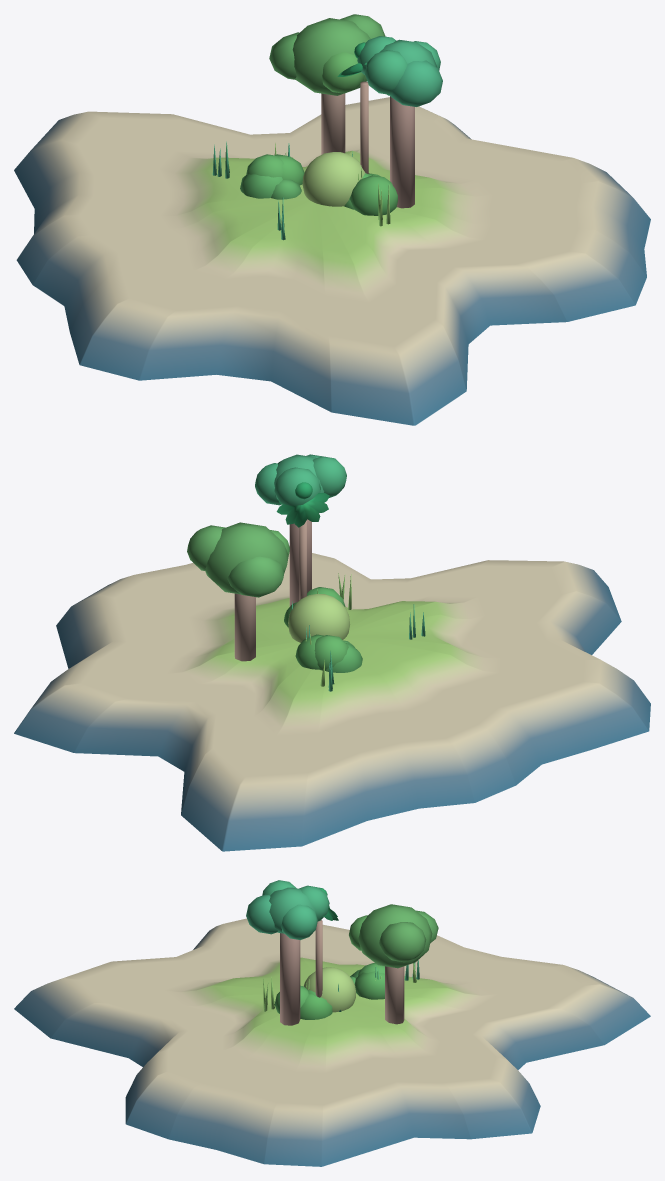
File: terrain_island_09.glb
3 renders of one model, top to bottom at view 1: azimuth 30°, elevation 25°; view 2: azimuth 150°, elevation 25°; view 3: azimuth 270°, elevation 25°, orthographic. The views are drawn at different scales.
Visible parts, largest first — view 1: island_terrain, veg_tree0_tree_crown_c, hill0, veg_tree1_tree_trunk, veg_tree1_tree_crown_1, veg_shrub0_ball1, veg_tree0_tree_trunk, veg_tree1_tree_crown_2, veg_tree0_tree_crown_1, veg_tree0_tree_crown_2, veg_tree2_palm_trunk, veg_shrub1_ball2 (+2 smaller); view 2: island_terrain, veg_tree0_tree_crown_c, hill0, veg_tree0_tree_crown_2, veg_tree0_tree_trunk, veg_tree1_tree_trunk, veg_tree1_tree_crown_3, veg_tree0_tree_crown_0, veg_tree1_tree_crown_2, veg_shrub1_ball3, veg_tree1_tree_crown_0, veg_tree1_tree_crown_c (+2 smaller); view 3: island_terrain, veg_tree0_tree_crown_c, veg_tree1_tree_trunk, veg_tree0_tree_crown_0, hill0, veg_tree0_tree_trunk, veg_tree1_tree_crown_0, veg_tree1_tree_crown_c, veg_tree1_tree_crown_1, veg_shrub1_ball0, veg_shrub0_ball0, veg_tree2_palm_trunk (+1 smaller).
Part boxes in pixels (x1=…): island_terrain: x1=14, y1=97, x2=650, y2=425; veg_tree0_tree_crown_c: x1=292, y1=18, x2=370, y2=95; hill0: x1=302, y1=152, x2=365, y2=206; veg_tree1_tree_trunk: x1=390, y1=96, x2=414, y2=208; veg_tree1_tree_crown_1: x1=390, y1=60, x2=442, y2=106; veg_shrub0_ball1: x1=349, y1=175, x2=397, y2=215; veg_tree0_tree_trunk: x1=321, y1=93, x2=345, y2=154; veg_tree1_tree_crown_2: x1=365, y1=50, x2=407, y2=94; veg_tree0_tree_crown_1: x1=322, y1=52, x2=364, y2=93; veg_tree0_tree_crown_2: x1=269, y1=32, x2=299, y2=79; veg_tree2_palm_trunk: x1=360, y1=81, x2=368, y2=173; veg_shrub1_ball2: x1=240, y1=174, x2=282, y2=198; island_terrain: x1=14, y1=552, x2=650, y2=851; veg_tree0_tree_crown_c: x1=205, y1=522, x2=288, y2=594; hill0: x1=288, y1=594, x2=350, y2=642; veg_tree0_tree_crown_2: x1=227, y1=556, x2=284, y2=597; veg_tree0_tree_trunk: x1=234, y1=593, x2=255, y2=661; veg_tree1_tree_trunk: x1=289, y1=519, x2=311, y2=606; veg_tree1_tree_crown_3: x1=274, y1=467, x2=320, y2=505; veg_tree0_tree_crown_0: x1=187, y1=525, x2=225, y2=570; veg_tree1_tree_crown_2: x1=312, y1=456, x2=346, y2=497; veg_shrub1_ball3: x1=314, y1=635, x2=348, y2=670; veg_tree1_tree_crown_0: x1=255, y1=463, x2=281, y2=505; veg_tree1_tree_crown_c: x1=274, y1=454, x2=324, y2=498; island_terrain: x1=14, y1=918, x2=650, y2=1166; veg_tree0_tree_crown_c: x1=358, y1=904, x2=432, y2=968; veg_tree1_tree_trunk: x1=280, y1=933, x2=300, y2=1025; veg_tree0_tree_crown_0: x1=379, y1=922, x2=426, y2=962; hill0: x1=304, y1=967, x2=355, y2=1012; veg_tree0_tree_trunk: x1=385, y1=966, x2=404, y2=1024; veg_tree1_tree_crown_0: x1=281, y1=904, x2=317, y2=940; veg_tree1_tree_crown_c: x1=269, y1=887, x2=315, y2=933; veg_tree1_tree_crown_1: x1=246, y1=894, x2=277, y2=934; veg_shrub1_ball0: x1=354, y1=971, x2=384, y2=999; veg_shrub0_ball0: x1=300, y1=994, x2=332, y2=1019; veg_tree2_palm_trunk: x1=315, y1=920, x2=322, y2=997.
Bounding box in the file's own units: 155 × 56.23 × 179.
